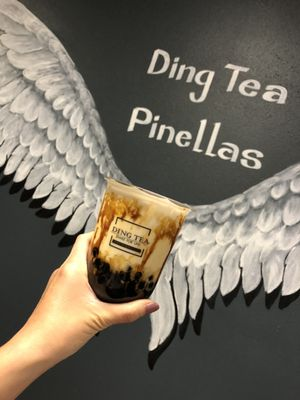pizza: (0, 228, 160, 400)
